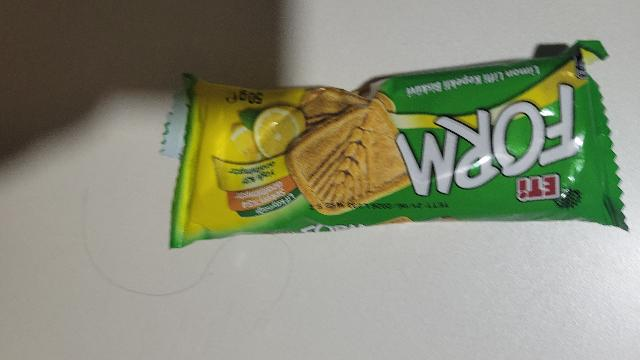Plastik: (146, 49, 640, 227)
